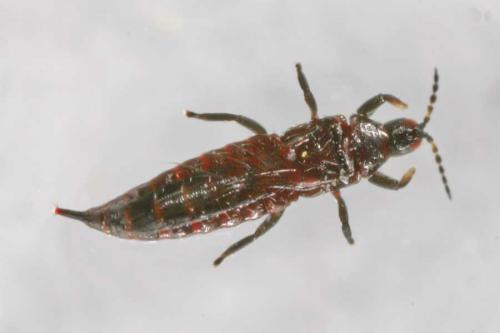Phlaeothripidae: (53, 59, 453, 270)
